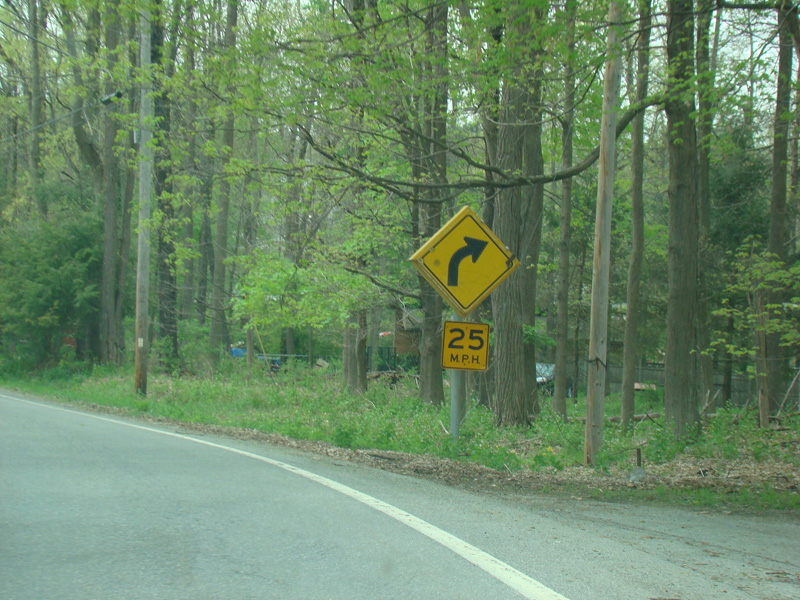right: (408, 214, 512, 303)
